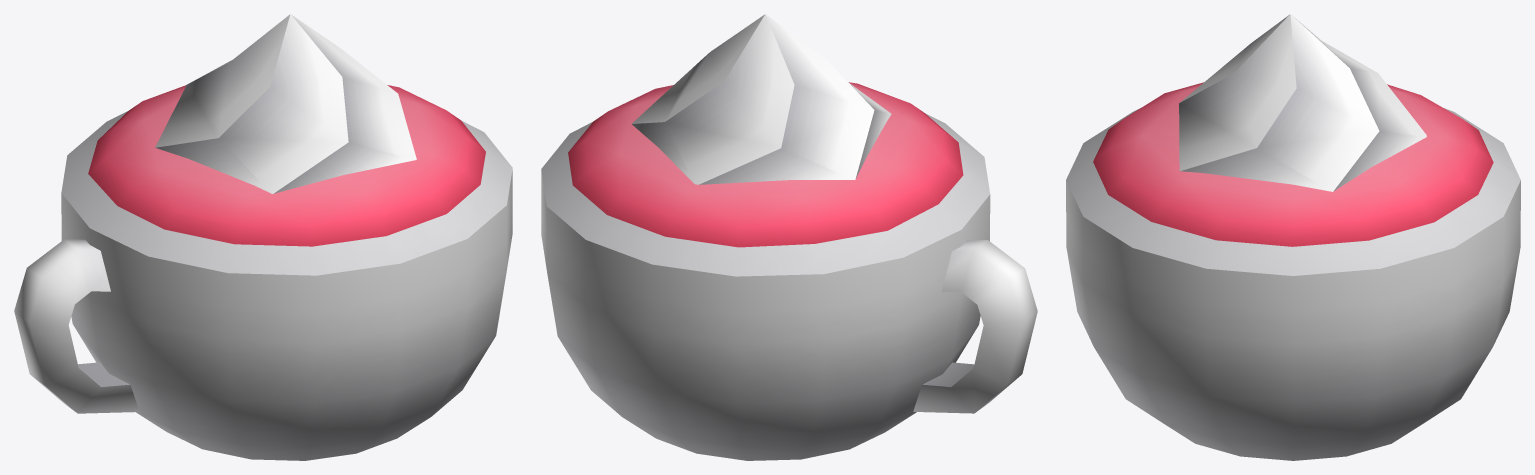
The model's file is m_Cup02_Pink04.fbx.
3 renders of one model, left to right at view 1: azimuth 30°, elevation 25°; view 2: azimuth 150°, elevation 25°; view 3: azimuth 270°, elevation 25°, orthographic.
Parts seen in each view (by area): view 1: m_Cup02_Pink04; view 2: m_Cup02_Pink04; view 3: m_Cup02_Pink04.
Boxes of the visible parts, x1,y1,x2,y2 form: m_Cup02_Pink04: (14,14,512,460); m_Cup02_Pink04: (541,14,1037,460); m_Cup02_Pink04: (1066,14,1520,460).
Bounding box in the file's own units: 14.87 × 11.97 × 12.68.
